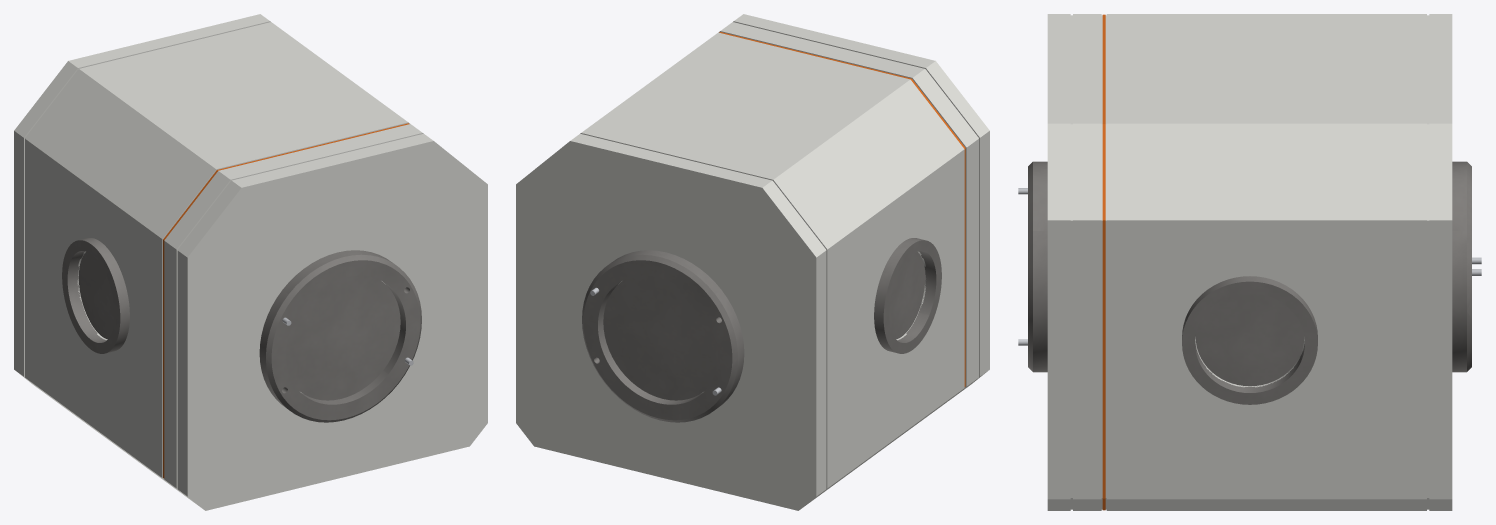
The model's file is ax_rover_07_mid_airlock.glb.
3 views of the same model, side by side, from view 1: azimuth 30°, elevation 25°; view 2: azimuth 150°, elevation 25°; view 3: azimuth 270°, elevation 25° (orthographic). The views are drawn at different scales.
Parts seen in each view (by area): view 1: hub_shell, hatch_door_1, hub_ring_front, suitport_rings, suitport_hatch_r, orange_stripes; view 2: hub_shell, hatch_door_2, hub_ring_rear, suitport_rings, suitport_hatch_r, orange_stripes; view 3: hub_shell, suitport_hatch_l, suitport_rings, hub_ring_front, hub_ring_rear, orange_stripes.
Part boxes in pixels (box(x1,y1,x2,y2)): hub_shell: box(14, 14, 487, 510); hatch_door_1: box(286, 275, 400, 400); hub_ring_front: box(259, 250, 421, 422); suitport_rings: box(62, 238, 129, 353); suitport_hatch_r: box(78, 252, 114, 339); orange_stripes: box(163, 123, 409, 478); hub_shell: box(516, 14, 989, 510); hatch_door_2: box(603, 275, 717, 400); hub_ring_rear: box(582, 250, 744, 422); suitport_rings: box(874, 238, 941, 353); suitport_hatch_r: box(889, 252, 925, 339); orange_stripes: box(719, 32, 965, 386); hub_shell: box(1047, 14, 1452, 510); suitport_hatch_l: box(1195, 293, 1304, 386); suitport_rings: box(1182, 276, 1317, 404); hub_ring_front: box(1028, 161, 1047, 372); hub_ring_rear: box(1452, 161, 1471, 372); orange_stripes: box(1102, 14, 1105, 510).
Bounding box in the file's own units: 2.66 × 2.56 × 2.86.
Materials: 4 (2 with a texture image).
